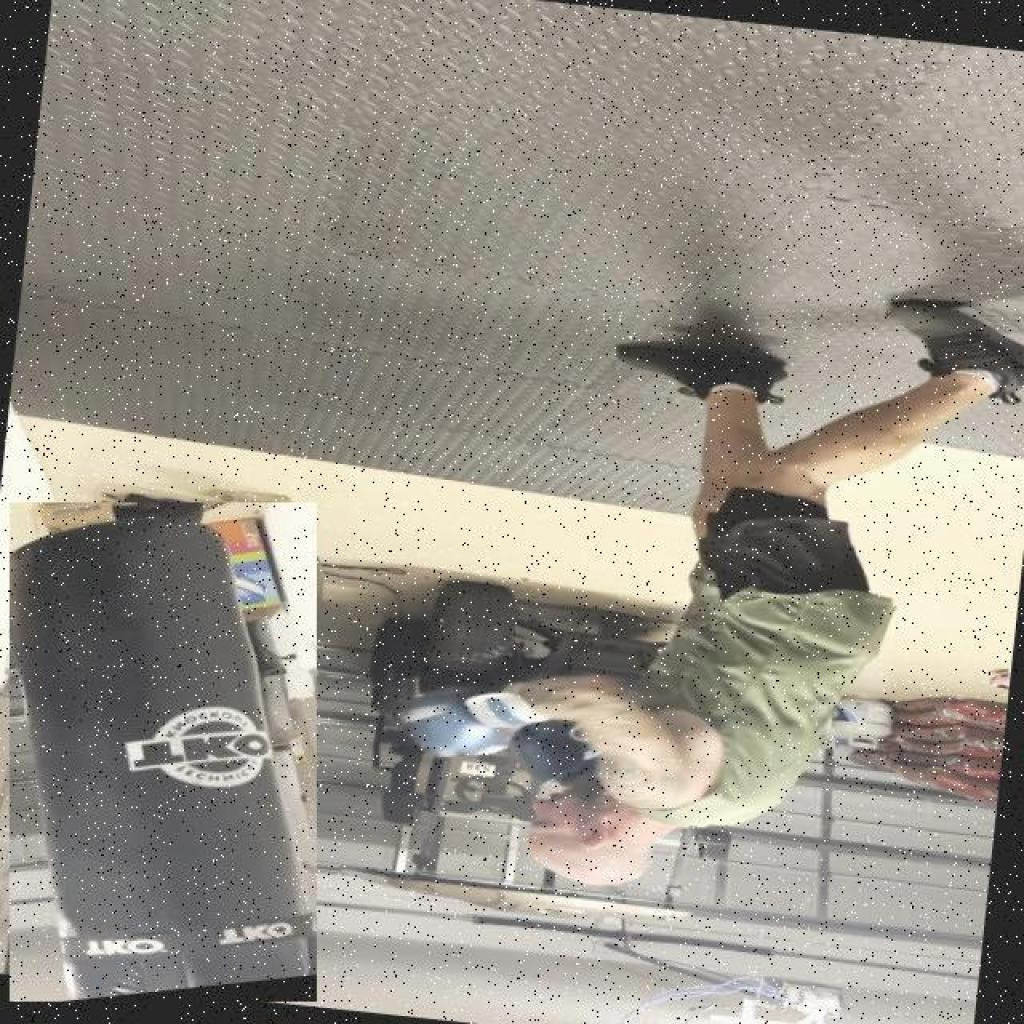bag: (10, 502, 318, 1002)
cross: (372, 612, 850, 946)
